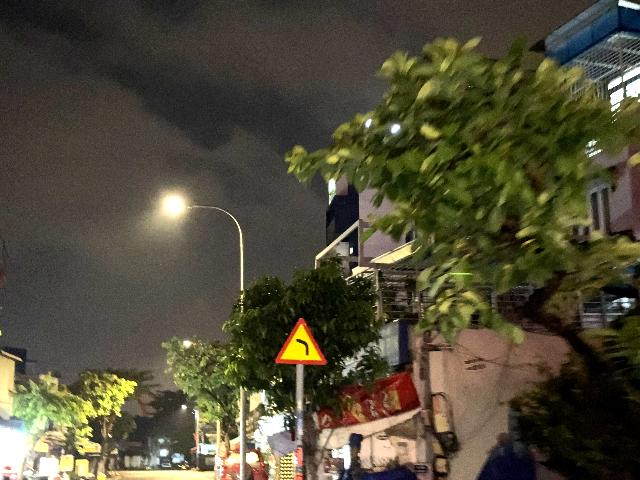cho-ngoat-nguy-hiem-ben-trai: (274, 317, 327, 365)
